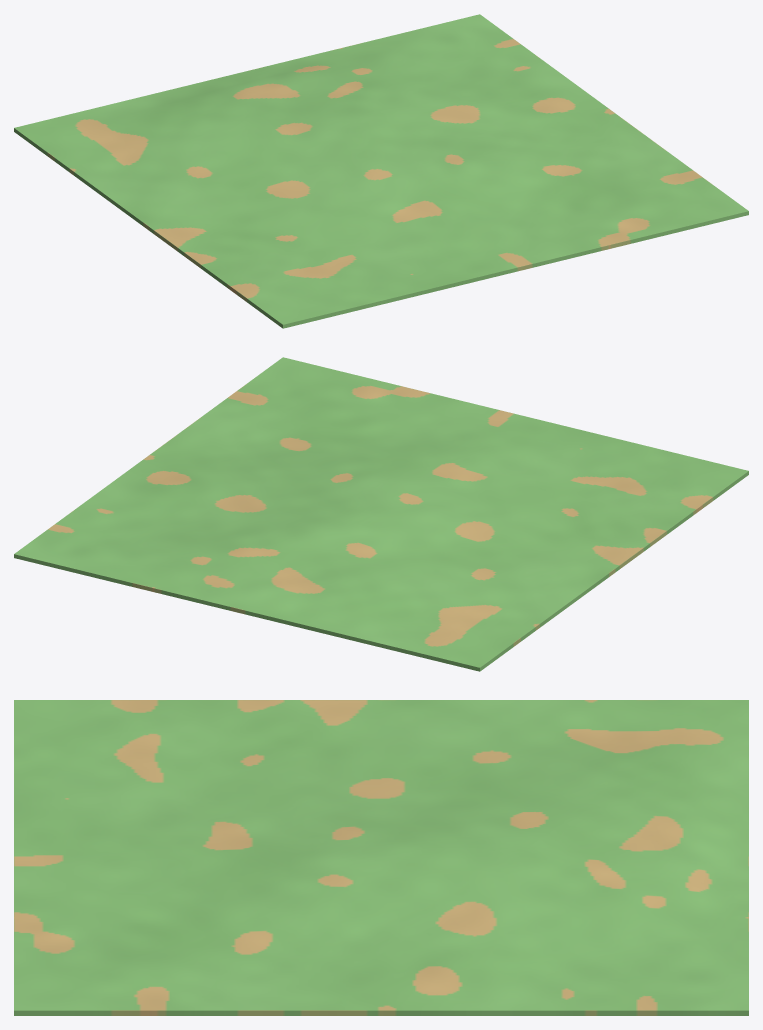
File: Grass_Flat_02.obj
3 renders of one model, top to bottom at view 1: azimuth 30°, elevation 25°; view 2: azimuth 150°, elevation 25°; view 3: azimuth 270°, elevation 25°, orthographic. The views are drawn at different scales.
Size of the model in its own units: 10 by 0.3341 by 10.
Materials: 1 (1 with a texture image).
